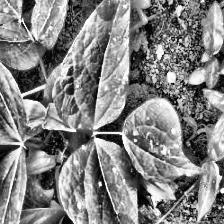Bean Rust: (64, 0, 143, 131), (60, 137, 140, 224), (131, 99, 200, 184)
